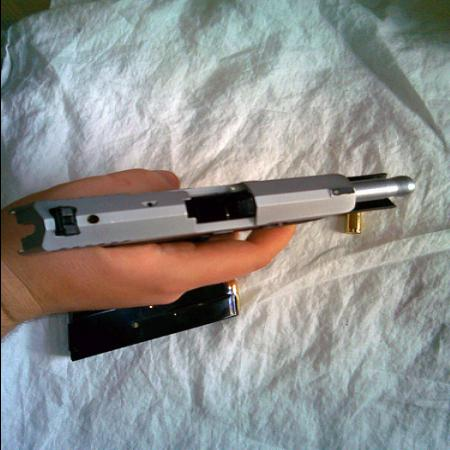Pistol: (17, 173, 418, 257)
